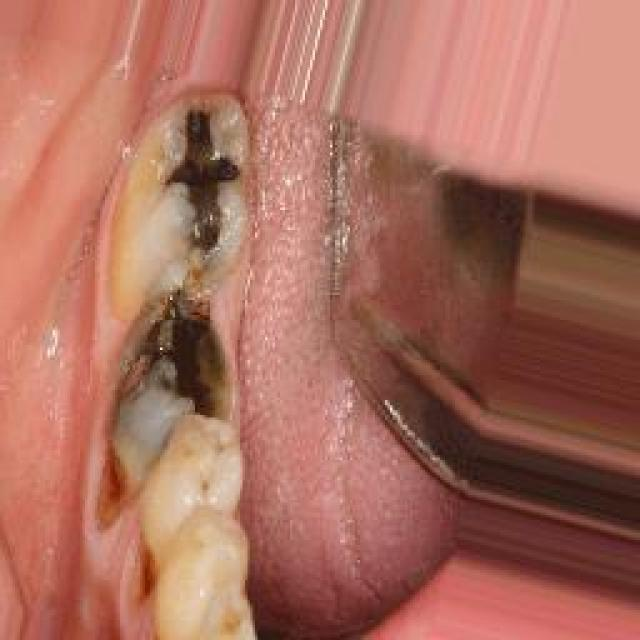caries: (100, 305, 240, 460), (168, 133, 243, 243)
